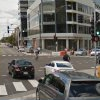crosswalk: (0, 79, 40, 98), (0, 54, 24, 57)
